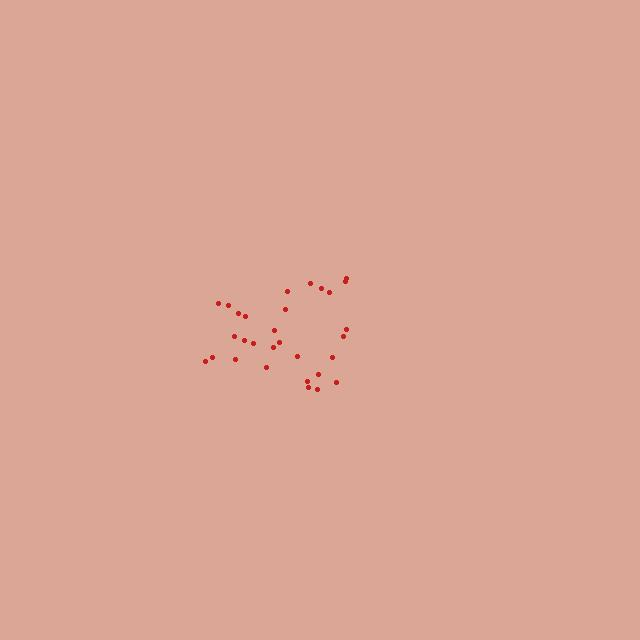abrasion: (205, 277, 348, 393)
